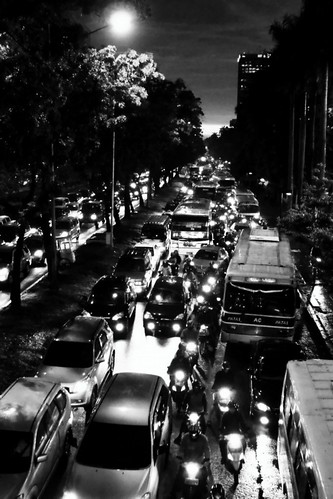bus: (231, 228, 315, 360)
car: (59, 380, 169, 499), (31, 320, 121, 404), (147, 274, 198, 347), (83, 275, 134, 337)
vegetation: (1, 42, 192, 274)
